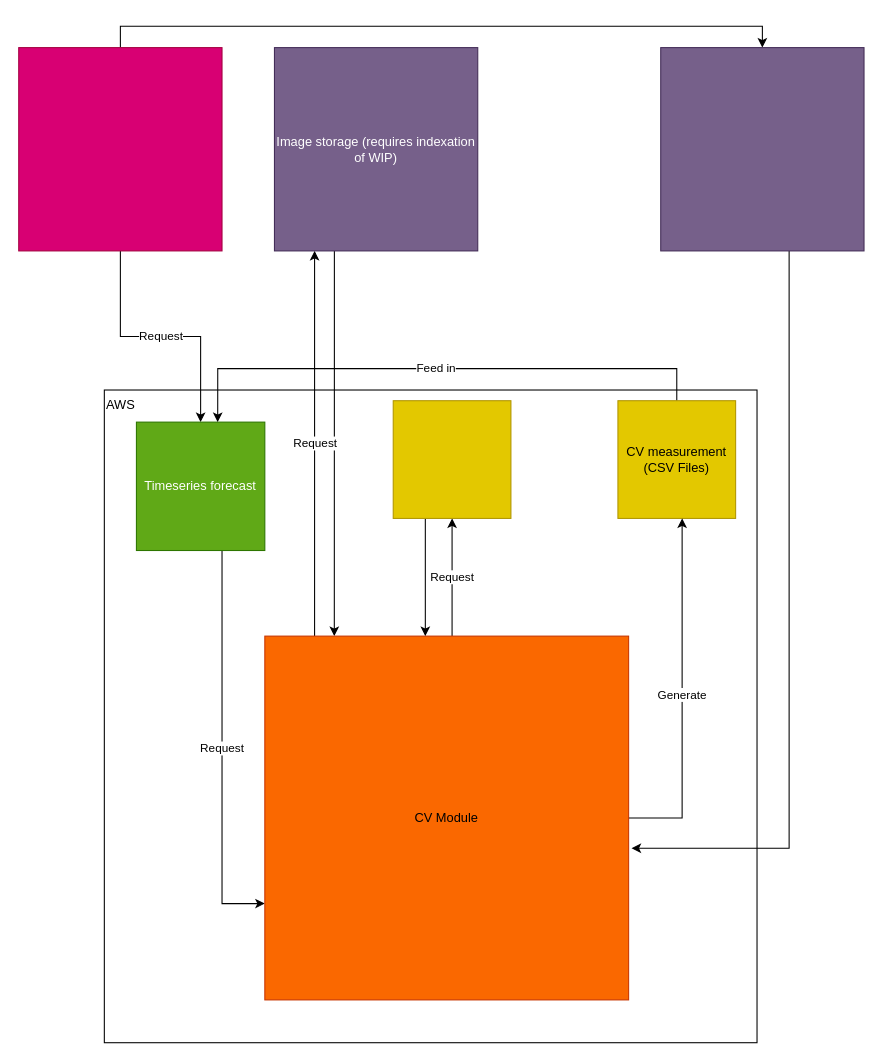
Some shapes in this 883 by 1061 pixel diagram are drawn without their labels. The shapes that lost their labels are listed below. From the top down, each one's centre as x and y in pixels, then its label:
the point at 120,149: Client
the point at 762,149: Training set of pictures with defined classes
the point at 451,459: Training features (Client specific) Extraction (CSV file)
